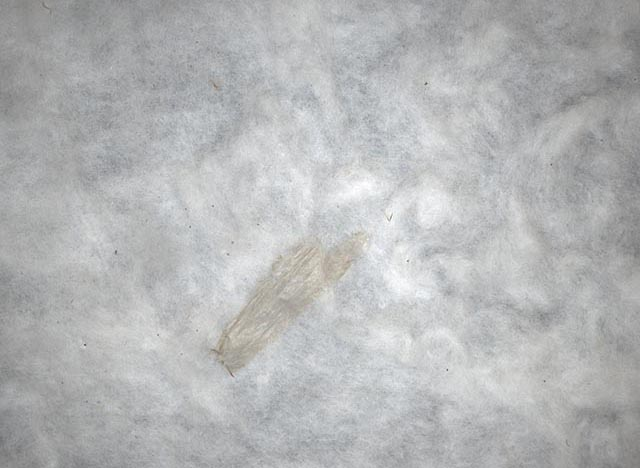plastic film: (211, 230, 366, 370)
